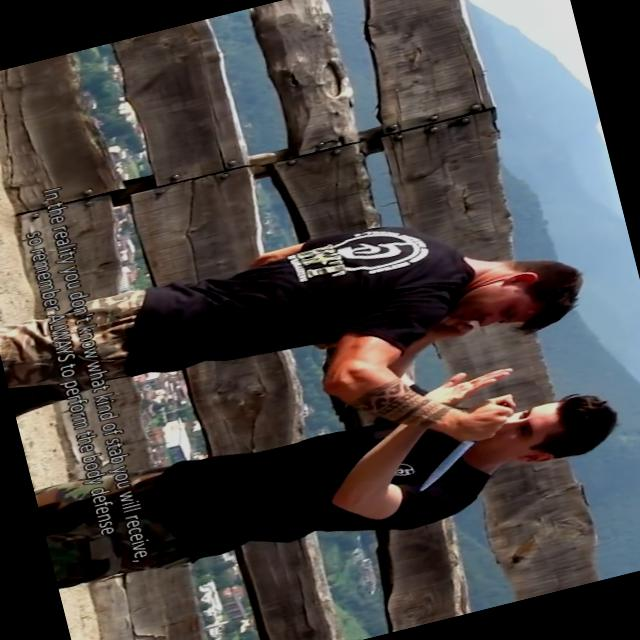knife: (398, 390, 534, 494)
